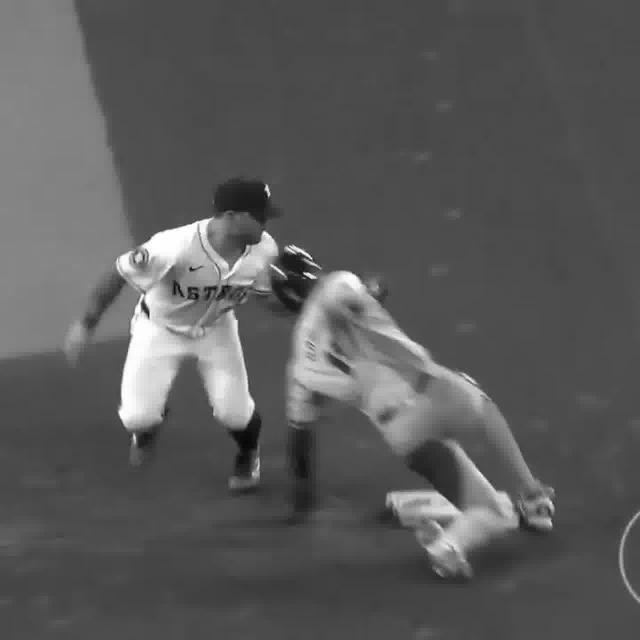base: (384, 490, 506, 524)
shoe: (416, 519, 474, 579), (228, 442, 262, 492), (520, 491, 554, 534), (132, 429, 164, 467)
